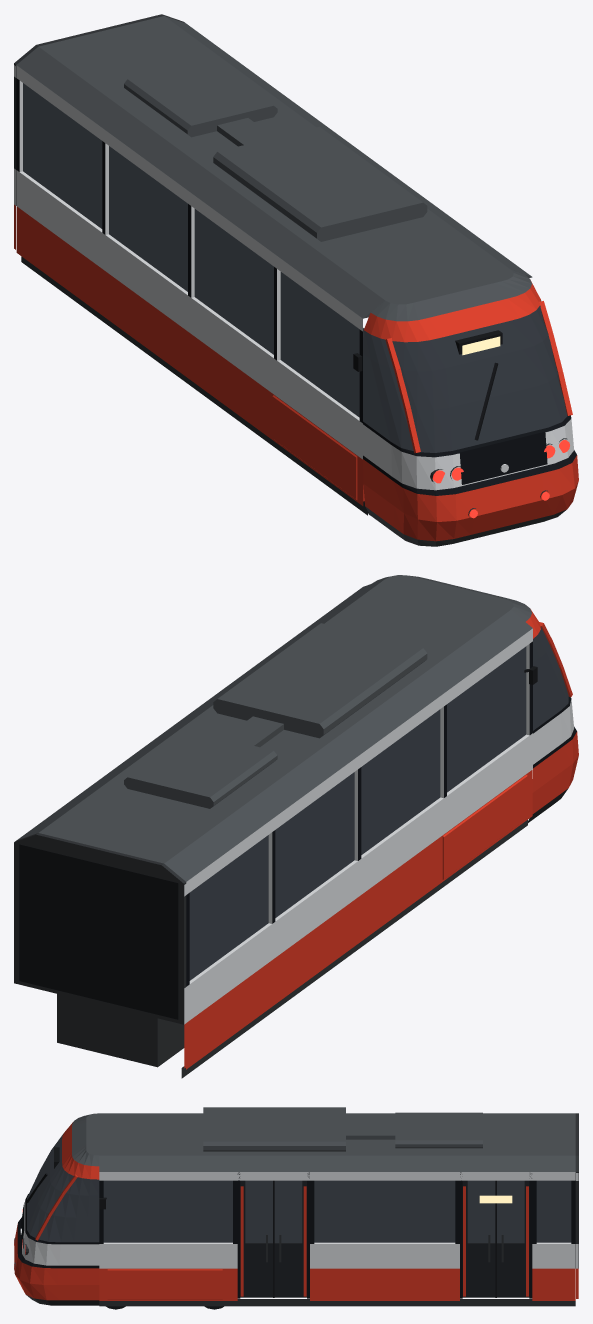
3 views of the same model, one above another, from view 1: azimuth 30°, elevation 25°; view 2: azimuth 150°, elevation 25°; view 3: azimuth 270°, elevation 25° (orthographic). The views are drawn at different scales.
Visible parts, largest first — view 1: 15t-c; view 2: 15t-c; view 3: 15t-c.
Part boxes in pixels (left/top/right/bottom): 15t-c: left=14, top=14, right=578, bottom=546; 15t-c: left=14, top=575, right=578, bottom=1078; 15t-c: left=14, top=1107, right=578, bottom=1309.
Bounding box in the file's own units: 2.6 × 3.28 × 10.31.
